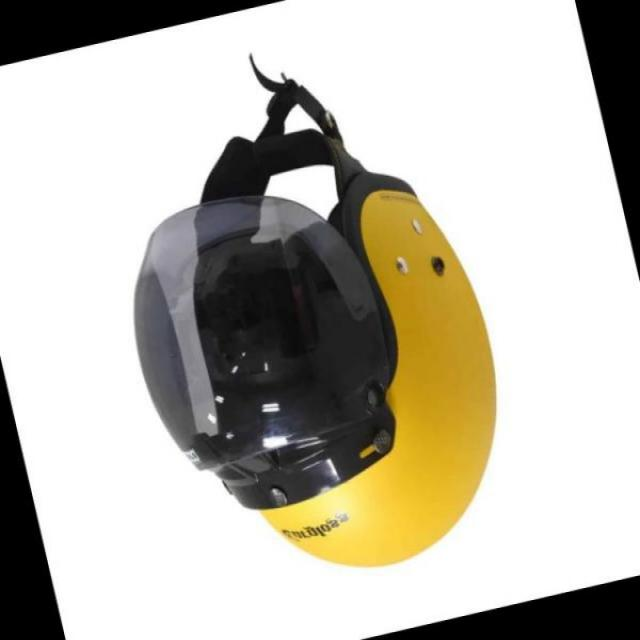Helmet: (118, 122, 502, 584)
